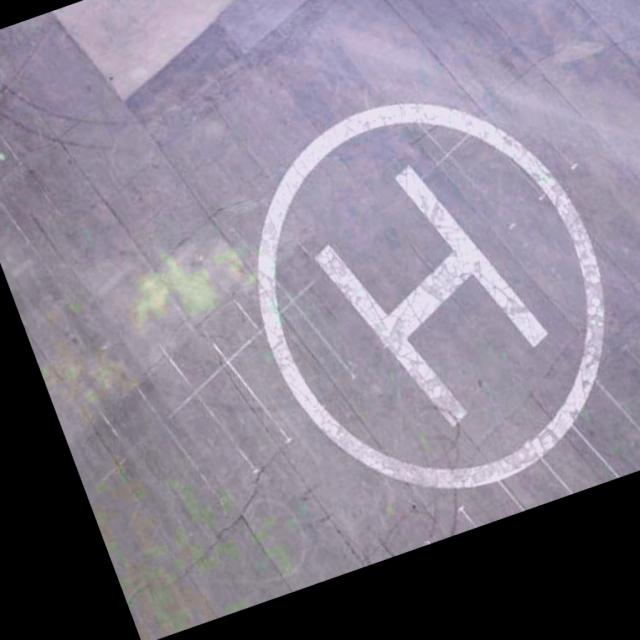helipad: (246, 93, 620, 496)
